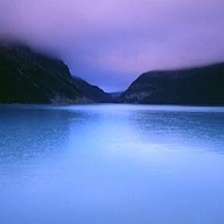neutral: (3, 53, 224, 184)
